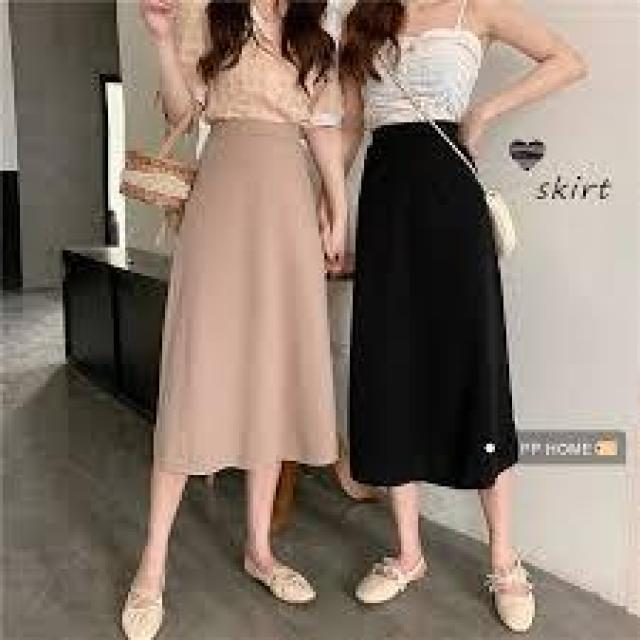skirt: (150, 117, 336, 480), (357, 120, 516, 500)
